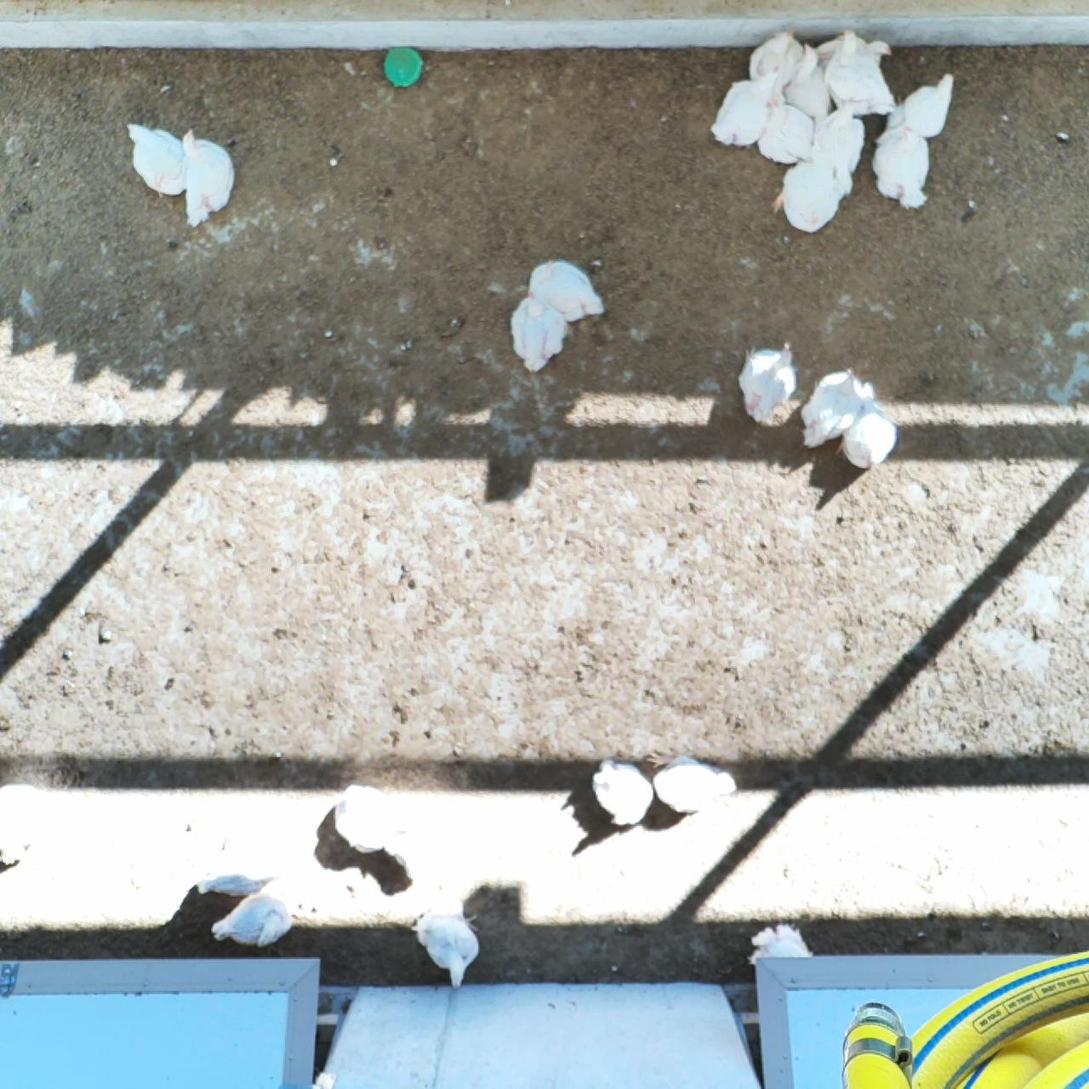chicken: (332, 784, 421, 888), (794, 364, 879, 450), (705, 61, 785, 148), (642, 743, 736, 817), (821, 29, 897, 120), (732, 337, 805, 430), (411, 904, 485, 991), (174, 127, 236, 228), (772, 153, 847, 234), (126, 117, 196, 199), (507, 290, 572, 375), (208, 889, 295, 951), (808, 97, 867, 186), (836, 397, 901, 476), (527, 259, 606, 324), (872, 122, 929, 212), (592, 752, 657, 828), (889, 73, 956, 146), (806, 31, 894, 86), (779, 41, 835, 127), (746, 920, 815, 987), (745, 26, 808, 99), (753, 97, 818, 167), (194, 866, 279, 905)
